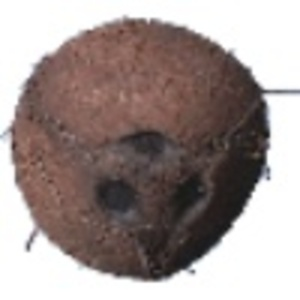coco: (1, 19, 300, 282)
